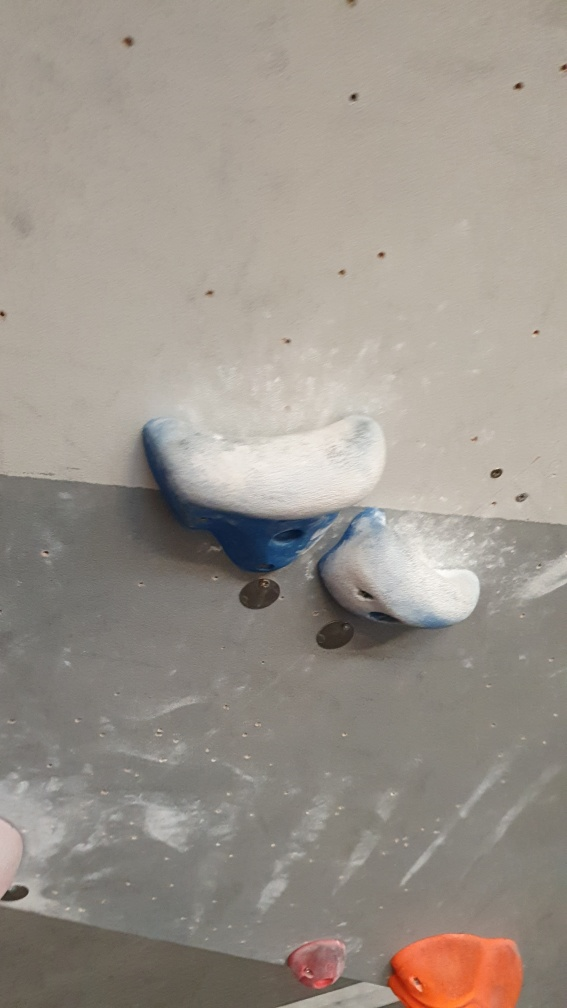Hand Start: (231, 565, 293, 620), (313, 616, 358, 652)
Jug: (133, 404, 388, 574), (317, 505, 486, 641)
